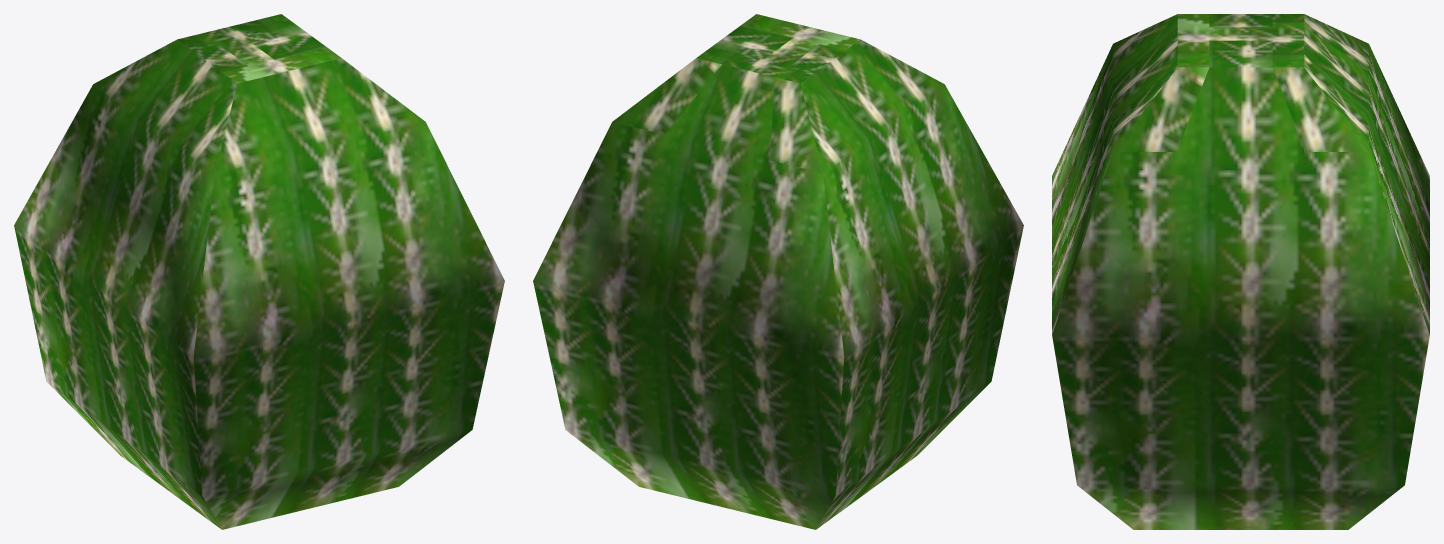
Rendered from Cacti.fbx.
3 views of the same model, side by side, from view 1: azimuth 30°, elevation 25°; view 2: azimuth 150°, elevation 25°; view 3: azimuth 270°, elevation 25° (orthographic). The views are drawn at different scales.
Visible parts, largest first — view 1: Cacti; view 2: Cacti; view 3: Cacti.
Part boxes in pixels (x1,y1,x2,y2): Cacti: [14, 14, 504, 529]; Cacti: [533, 14, 1023, 529]; Cacti: [1052, 14, 1429, 529].
Size of the model in its own units: 200 by 259 by 200.
1 material, 1 textured.
